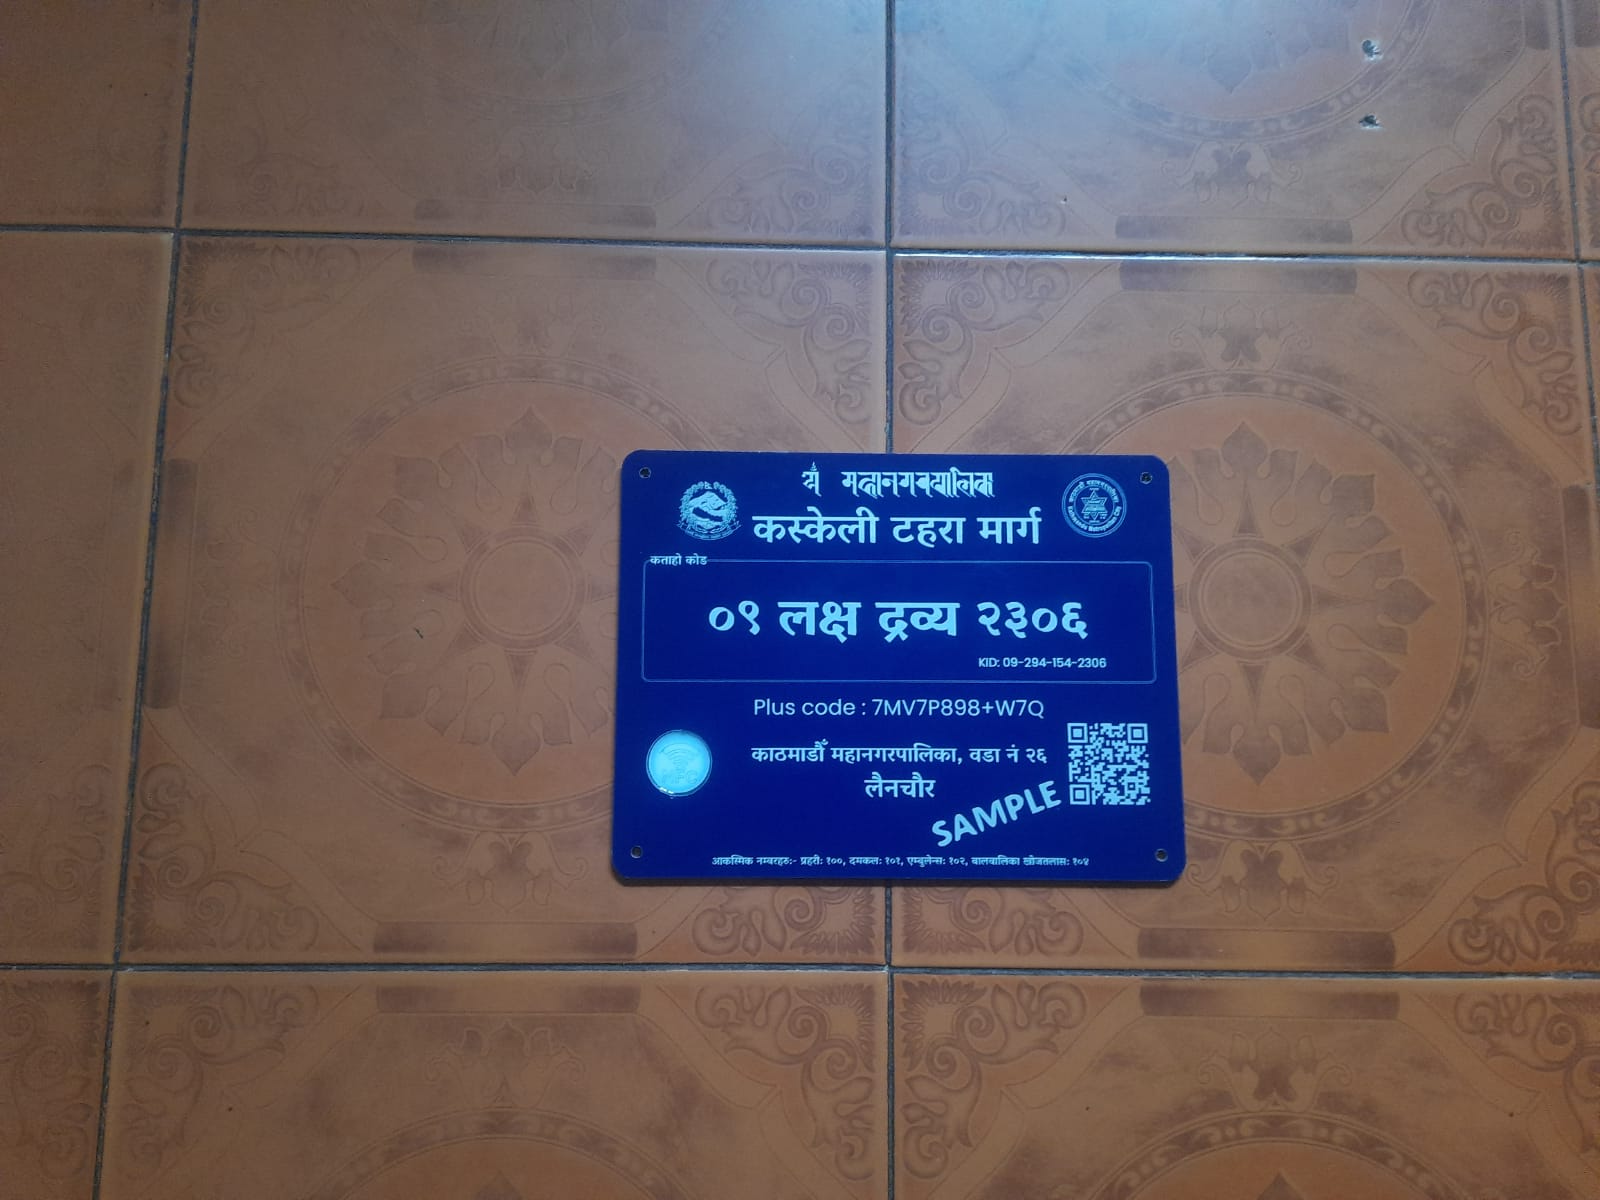Plate: (609, 441, 1191, 892)
